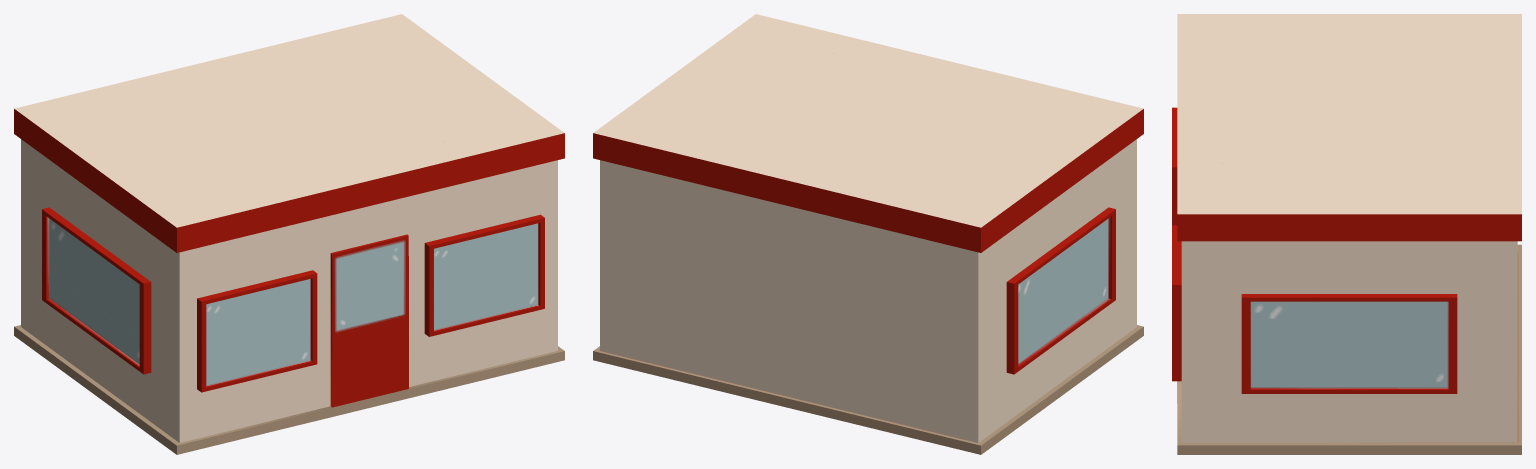
The model's file is SM_Building.fbx.
The picture shows the model from 3 angles, left to right: view 1: azimuth 30°, elevation 25°; view 2: azimuth 150°, elevation 25°; view 3: azimuth 270°, elevation 25°; orthographic projection. The views are drawn at different scales.
Parts seen in each view (by area): view 1: Building; view 2: Building; view 3: Building.
Part boxes in pixels (x1,y1,x2,y2): Building: (14,14,564,454); Building: (593,14,1143,454); Building: (1172,14,1521,454).
Bounding box in the file's own units: 5.14 × 2.84 × 3.74.
